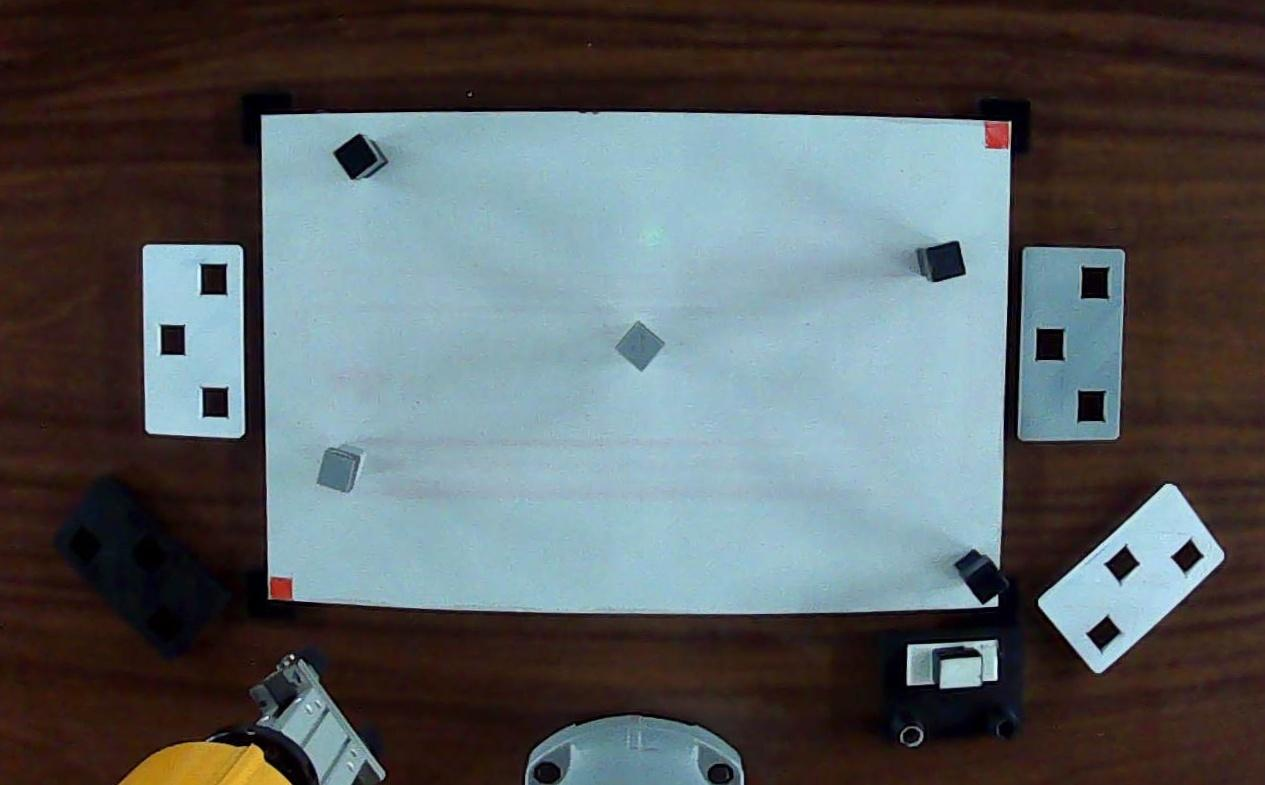pecaCinza: (615, 324, 668, 372), (315, 449, 364, 496)
pecaPreta: (953, 545, 1018, 612), (332, 129, 383, 183), (920, 241, 962, 283)
